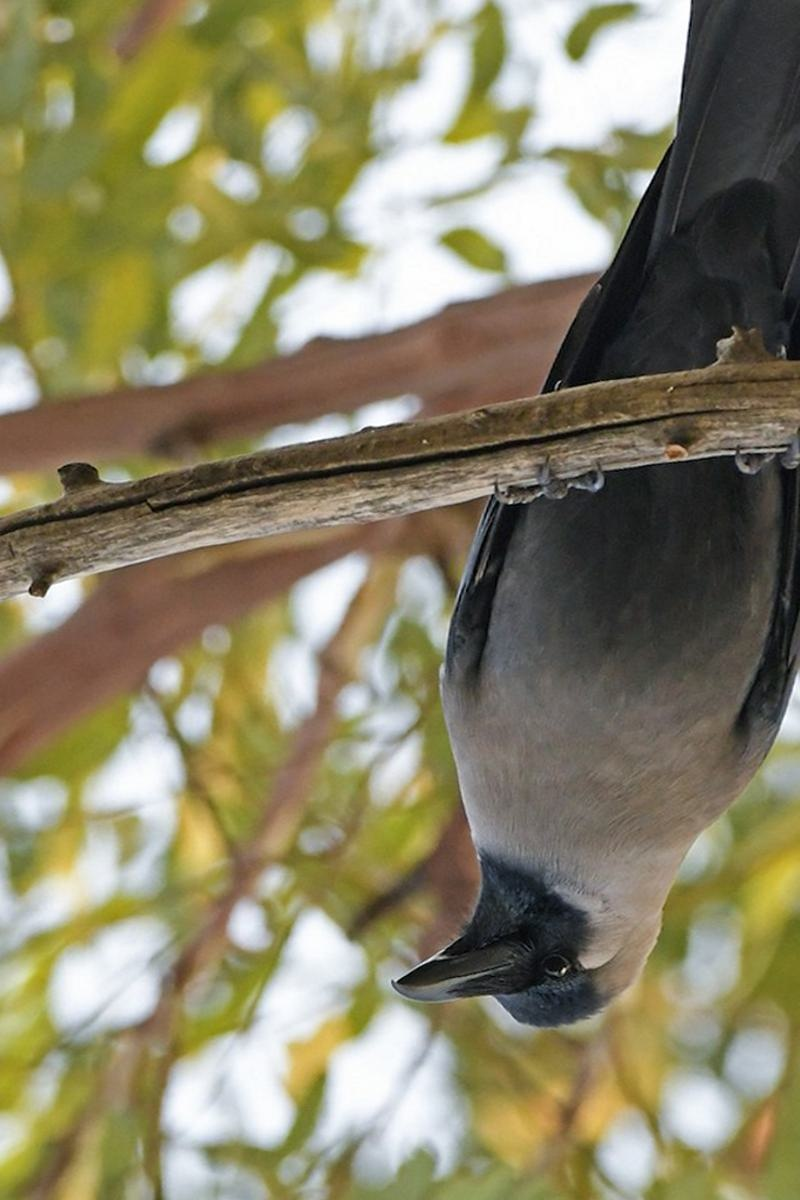crow: (402, 1, 800, 1039)
